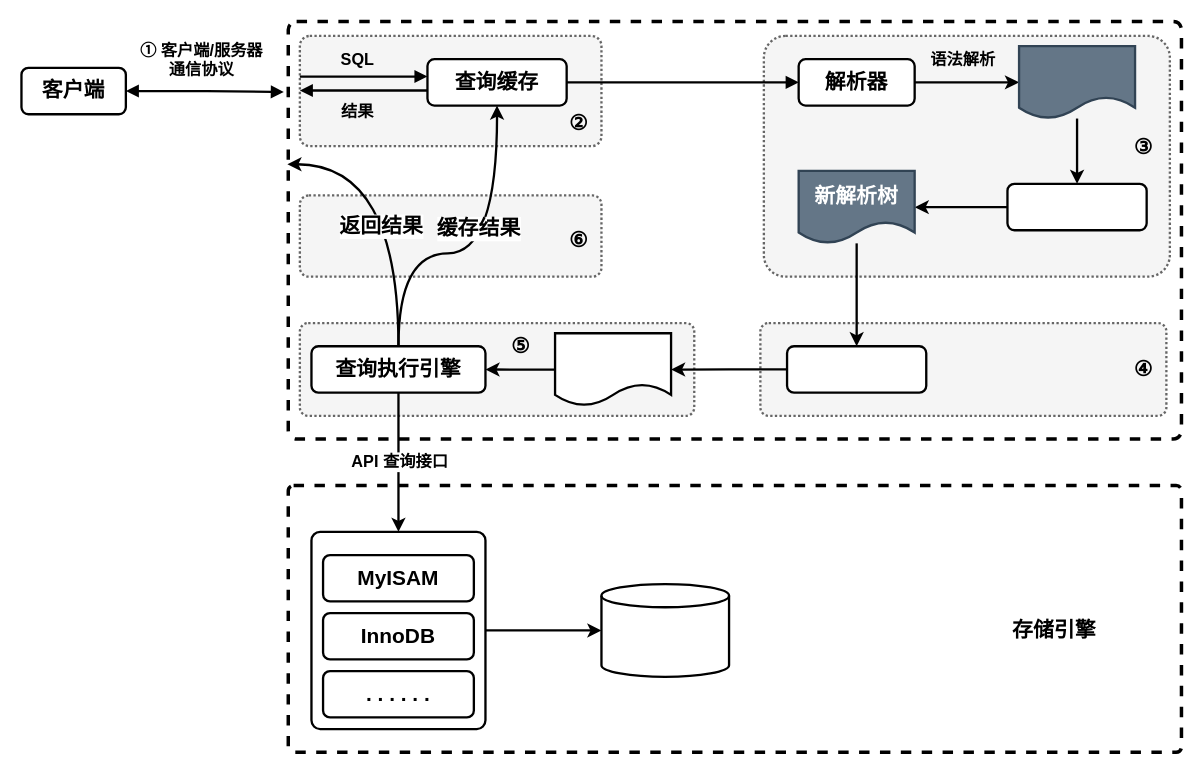
This 1203x774 diagram has some shape labels left out. The shapes that lost their labels are listed below. From the top down, each one's box as (x1, y1, x2, y2) in pixels, then its label:
(1017, 44, 1136, 119): 解析树
(1006, 182, 1147, 231): 预处理器
(553, 332, 672, 406): 执行计划
(785, 345, 927, 393): 查询优化器
(600, 582, 730, 677): 数据
